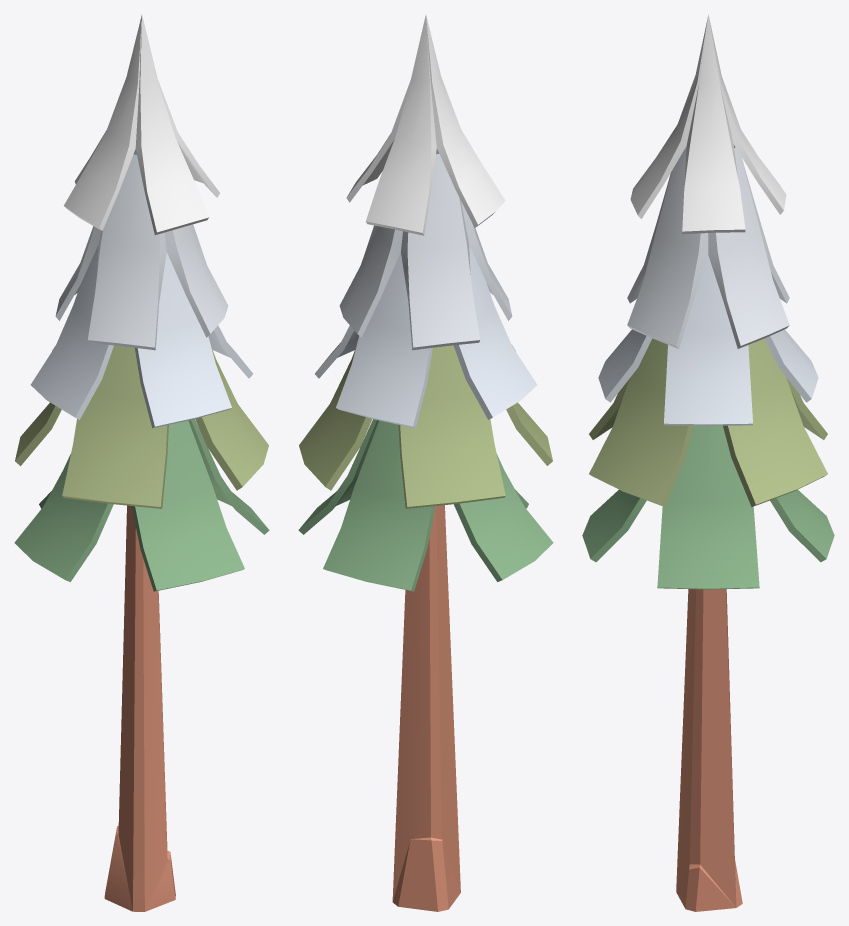
File: Snow_Tree_02.fbx
3 renders of one model, left to right at view 1: azimuth 30°, elevation 25°; view 2: azimuth 150°, elevation 25°; view 3: azimuth 270°, elevation 25°, orthographic.
Parts seen in each view (by area): view 1: Snow_Tree_04; view 2: Snow_Tree_04; view 3: Snow_Tree_04.
Part boxes in pixels (x1=…): Snow_Tree_04: x1=14, y1=15, x2=269, y2=911; Snow_Tree_04: x1=298, y1=15, x2=553, y2=911; Snow_Tree_04: x1=582, y1=14, x2=834, y2=911.
Size of the model in its own units: 1.94 by 7.52 by 1.94.
